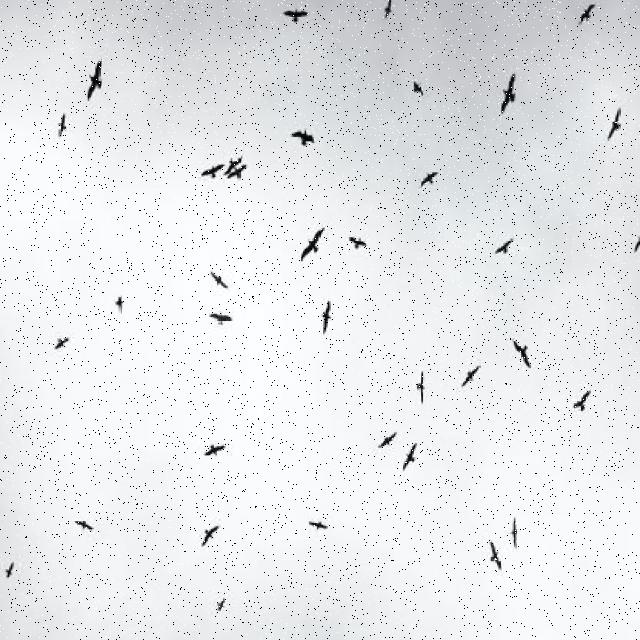bird: (299, 228, 324, 262), (501, 73, 516, 115), (88, 59, 101, 101), (513, 340, 532, 368), (290, 128, 316, 146), (462, 365, 480, 387), (202, 524, 220, 546), (403, 444, 417, 472), (608, 108, 620, 140), (284, 6, 308, 22), (574, 390, 591, 412), (579, 3, 595, 26), (210, 270, 228, 290), (322, 299, 332, 335), (490, 540, 501, 572), (200, 164, 225, 178), (224, 157, 242, 176), (204, 444, 227, 458), (494, 238, 514, 254), (227, 164, 247, 180), (210, 312, 232, 326), (378, 432, 397, 448), (420, 172, 438, 188), (418, 370, 426, 404), (74, 519, 94, 532), (348, 237, 367, 250), (383, 0, 394, 20), (58, 114, 67, 138), (511, 516, 517, 549), (54, 336, 68, 349), (413, 81, 424, 97), (116, 295, 124, 314), (309, 522, 328, 530), (6, 562, 14, 578), (217, 598, 225, 612), (634, 235, 638, 254)
